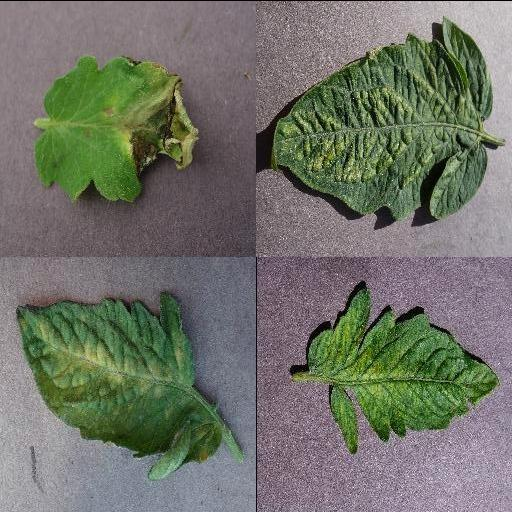Late Blight: (36, 53, 200, 203)
Leaf Mold: (16, 289, 222, 478)
Mosaic Virus: (306, 287, 500, 455)
Spider Mites: (271, 16, 493, 222)
